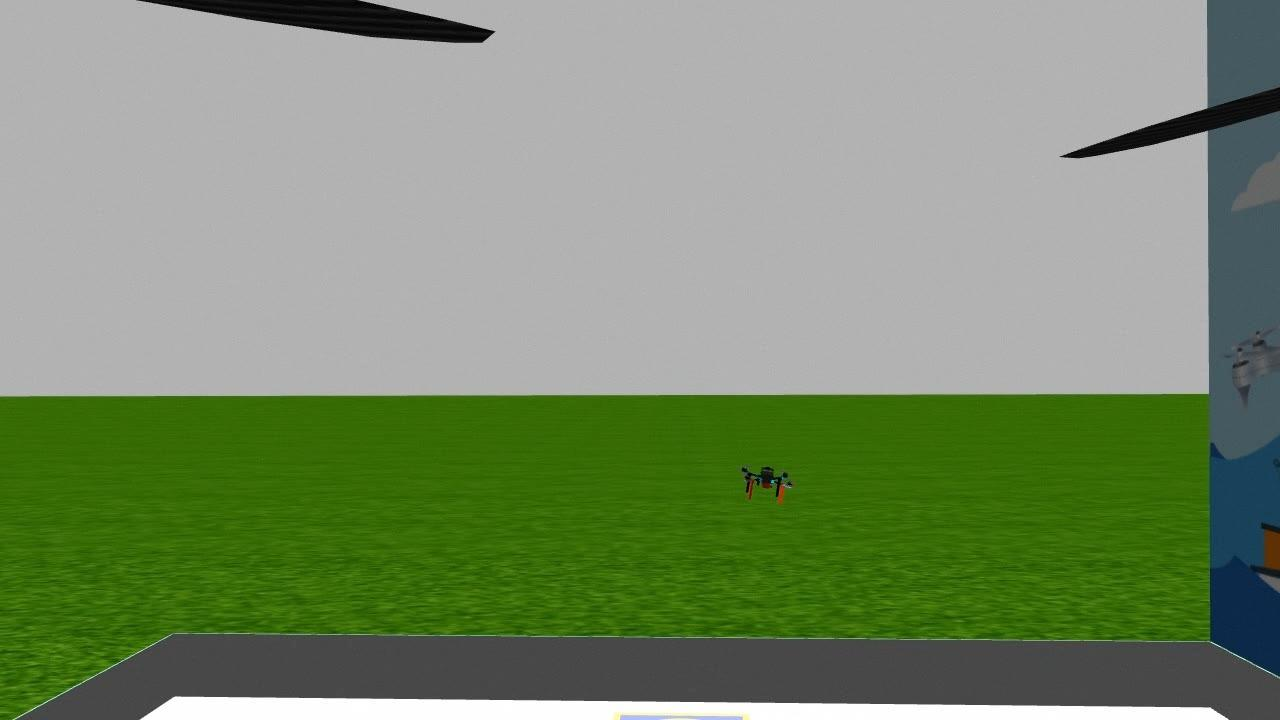UAV: (718, 447, 824, 516)
